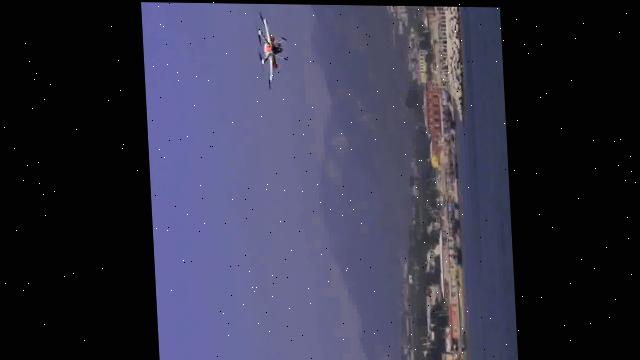drone: (254, 8, 292, 92)
